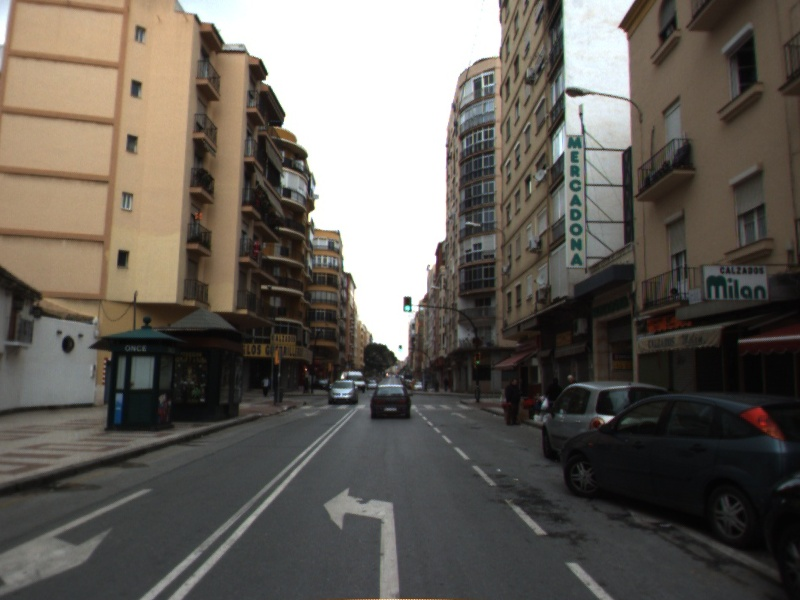LEFT: (322, 486, 401, 600)
